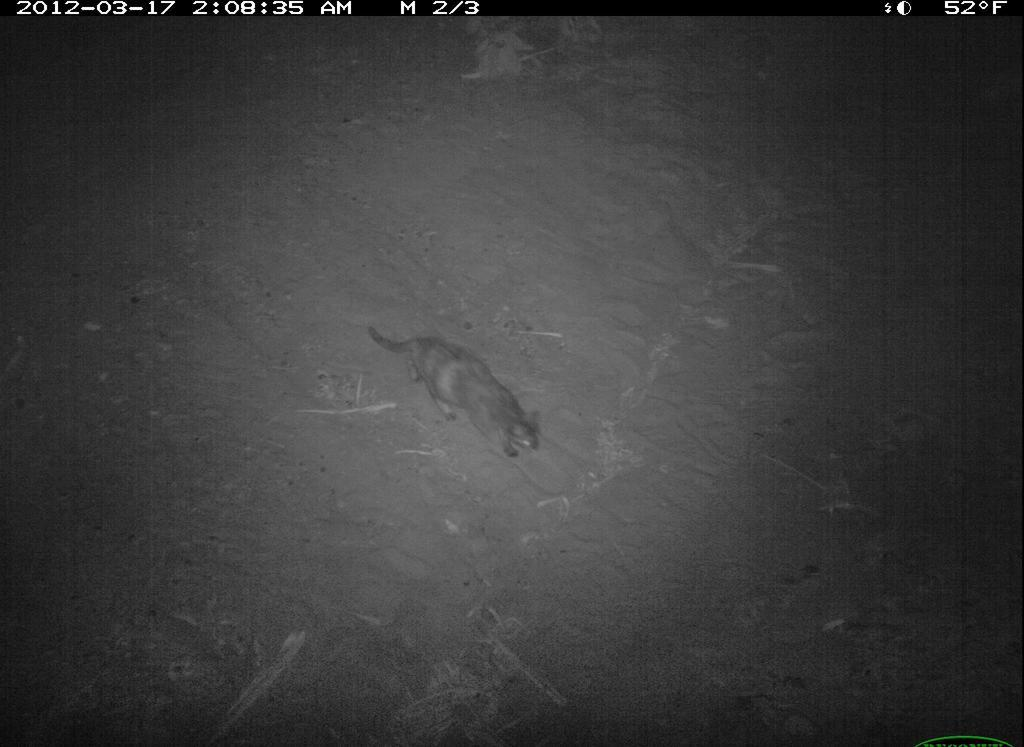cat: (361, 317, 552, 473)
